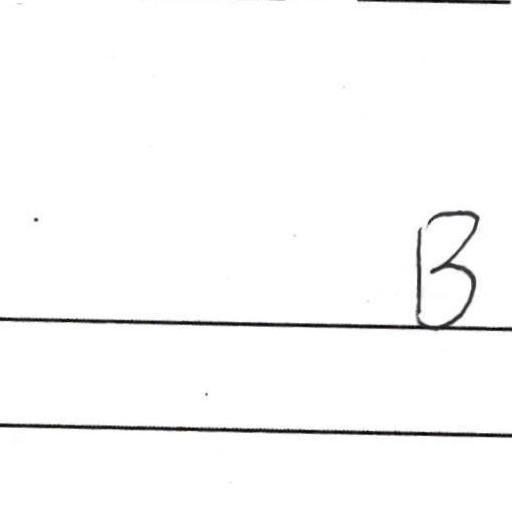ans: (404, 202, 482, 331)
